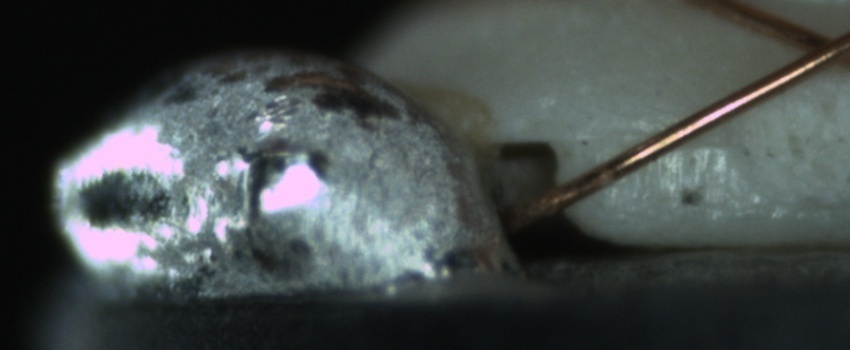CL: (774, 14, 850, 79)
DL: (592, 109, 731, 169)
